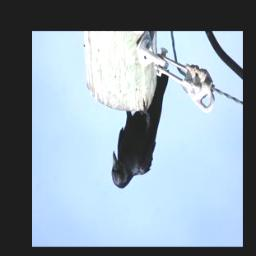Crow: (110, 68, 169, 189)
